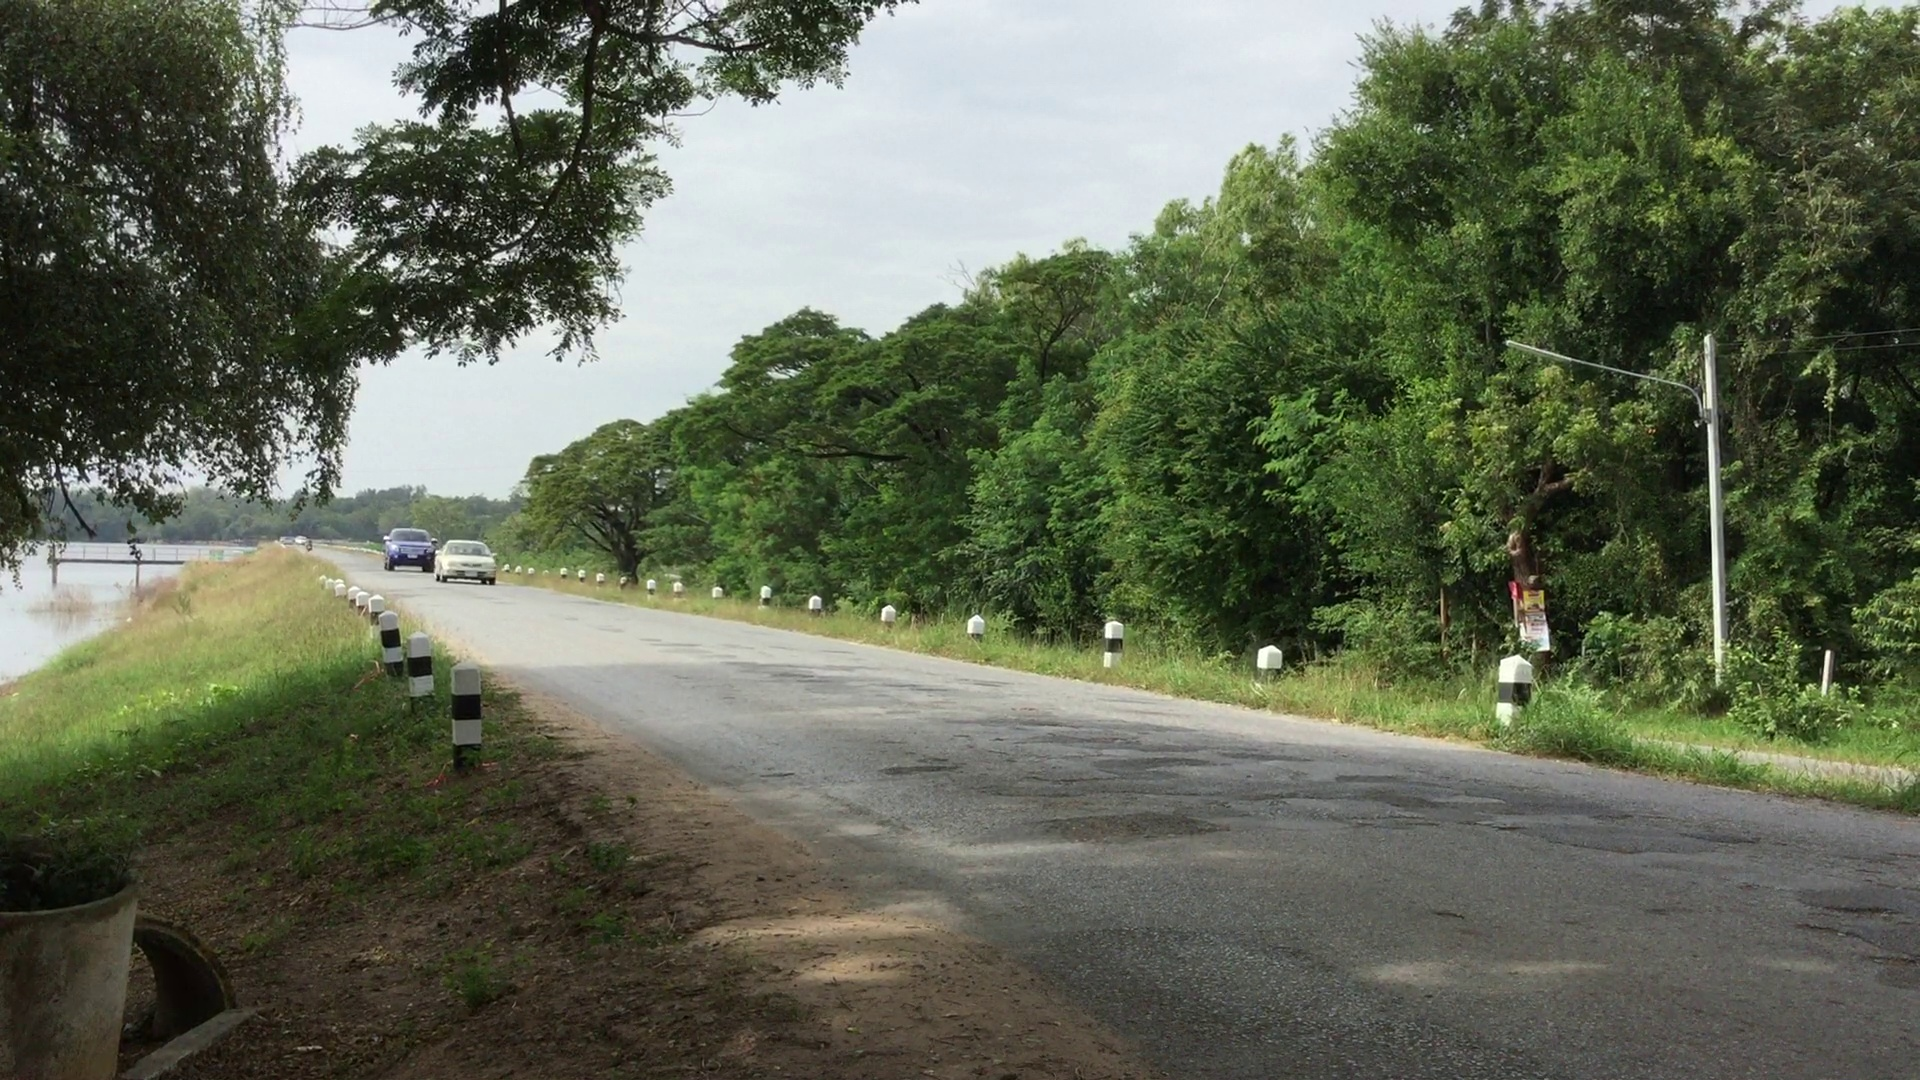car: (433, 539, 502, 584), (382, 526, 433, 568)
post: (450, 661, 485, 762), (1497, 654, 1534, 723), (402, 630, 433, 696), (377, 607, 404, 666), (1102, 618, 1125, 663), (1257, 645, 1280, 673), (967, 615, 988, 638)
